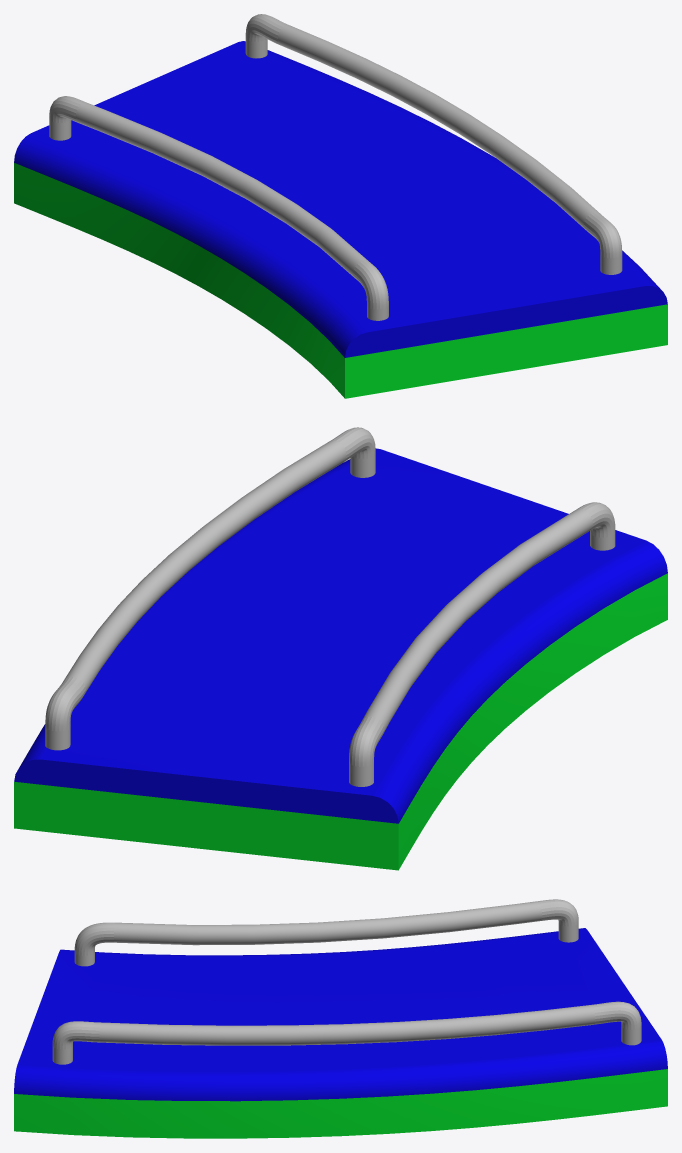
3 renders of one model, top to bottom at view 1: azimuth 30°, elevation 25°; view 2: azimuth 150°, elevation 25°; view 3: azimuth 270°, elevation 25°, orthographic. The views are drawn at different scales.
Visible parts, largest first — view 1: polySurface3, pCylinder49, pCylinder53; view 2: polySurface3, pCylinder49, pCylinder53; view 3: polySurface3, pCylinder49, pCylinder53.
Boxes of the visible parts, left/top/right/bottom form: polySurface3: left=14, top=41, right=667, bottom=398; pCylinder49: left=245, top=14, right=622, bottom=274; pCylinder53: left=49, top=96, right=388, bottom=320; polySurface3: left=14, top=448, right=667, bottom=870; pCylinder49: left=45, top=427, right=375, bottom=750; pCylinder53: left=349, top=502, right=615, bottom=786; polySurface3: left=14, top=928, right=667, bottom=1138; pCylinder49: left=52, top=1001, right=641, bottom=1064; pCylinder53: left=74, top=899, right=578, bottom=966.
Bounding box in the file's own units: 601 × 169 × 1031.
